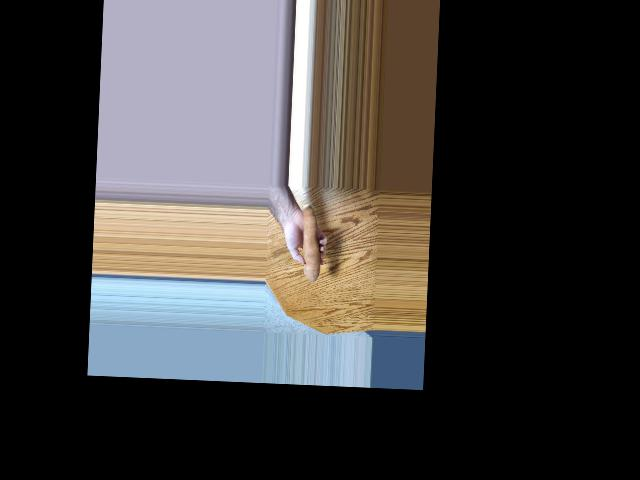sweet_potato: (301, 207, 327, 285)
